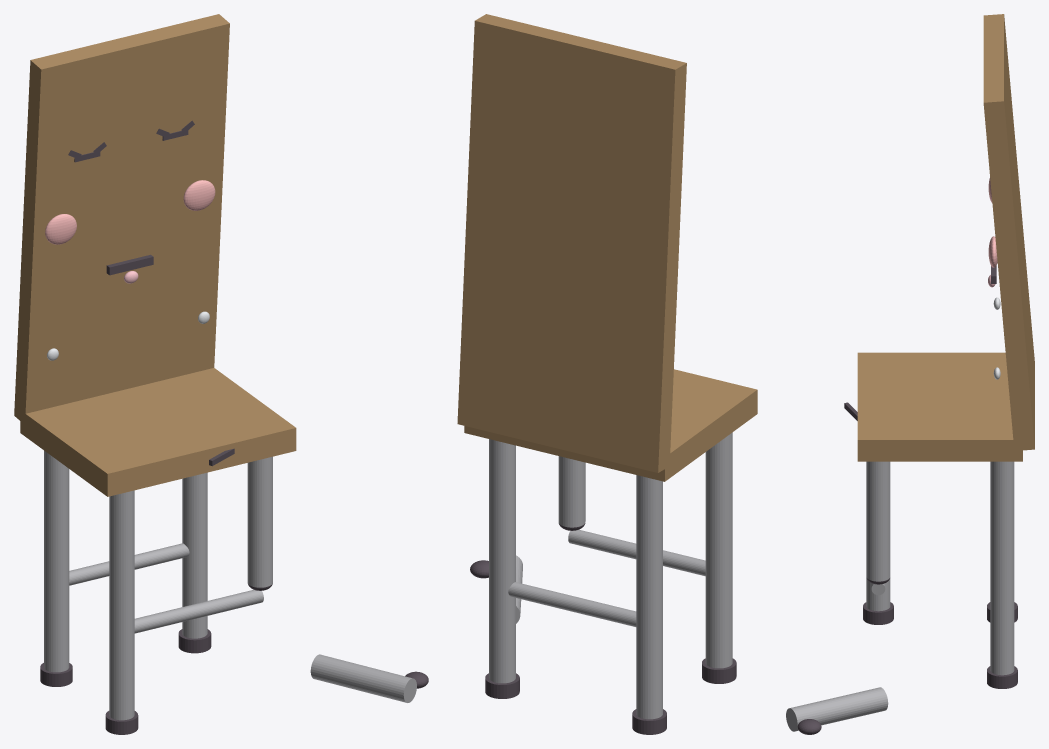
File: chair.glb
3 views of the same model, side by side, from view 1: azimuth 30°, elevation 25°; view 2: azimuth 150°, elevation 25°; view 3: azimuth 270°, elevation 25° (orthographic). The views are drawn at different scales.
Parts seen in each view (by area): view 1: Backrest, Seat, Leg_LF, Leg_LB, Leg_RB, Leg_RF, BrokenPiece, Brace_F, Brace_B, Cheek_L, Cheek_R; view 2: Backrest, Seat, Leg_LB, Leg_RB, Leg_LF, Brace_B, Leg_RF, Brace_F, Foot_LF, Foot_LB, Foot_RB; view 3: Seat, Backrest, Leg_RB, Leg_RF, BrokenPiece, Leg_LF, Foot_LF, Foot_RB.
Part boxes in pixels (x1,y1,x2,y2): Backrest: [14, 14, 229, 422]; Seat: [20, 368, 296, 496]; Leg_LF: [109, 490, 134, 720]; Leg_LB: [44, 450, 69, 672]; Leg_RB: [182, 472, 207, 638]; Leg_RF: [247, 456, 272, 587]; BrokenPiece: [310, 654, 416, 702]; Brace_F: [134, 589, 263, 633]; Brace_B: [69, 543, 189, 585]; Cheek_L: [45, 214, 76, 244]; Cheek_R: [183, 180, 215, 210]; Backrest: [457, 14, 686, 472]; Seat: [464, 369, 757, 481]; Leg_LB: [636, 475, 662, 719]; Leg_RB: [489, 439, 515, 683]; Leg_LF: [705, 432, 732, 668]; Brace_B: [508, 582, 636, 626]; Leg_RF: [558, 456, 585, 527]; Brace_F: [568, 529, 705, 576]; Foot_LF: [702, 658, 736, 683]; Foot_LB: [632, 709, 666, 734]; Foot_RB: [485, 673, 519, 698]; Seat: [857, 352, 1022, 461]; Backrest: [983, 14, 1034, 450]; Leg_RB: [990, 461, 1014, 675]; Leg_RF: [866, 461, 890, 581]; BrokenPiece: [786, 687, 888, 731]; Leg_LF: [866, 577, 890, 611]; Foot_LF: [863, 602, 893, 624]; Foot_RB: [987, 666, 1017, 688].
Size of the model in its own units: 0.9839 by 2 by 0.7609.
